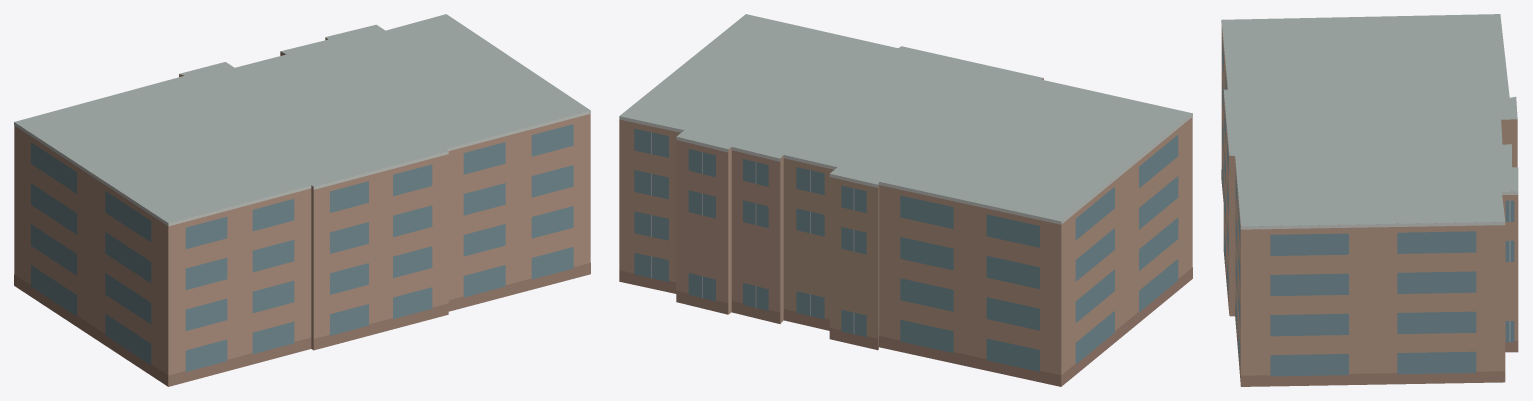
Rendered from survey-upis-32835649.glb.
The picture shows the model from 3 angles, left to right: view 1: azimuth 30°, elevation 25°; view 2: azimuth 150°, elevation 25°; view 3: azimuth 270°, elevation 25°; orthographic projection. The views are drawn at different scales.
Visible parts, largest first — view 1: survey-upis-32835649.tmp; view 2: survey-upis-32835649.tmp; view 3: survey-upis-32835649.tmp.
Part boxes in pixels (<box>): survey-upis-32835649.tmp: <box>14,14,590,386</box>; survey-upis-32835649.tmp: <box>619,14,1192,386</box>; survey-upis-32835649.tmp: <box>1221,14,1518,386</box>.
Size of the model in its own units: 34.65 by 12.2 by 20.47.
